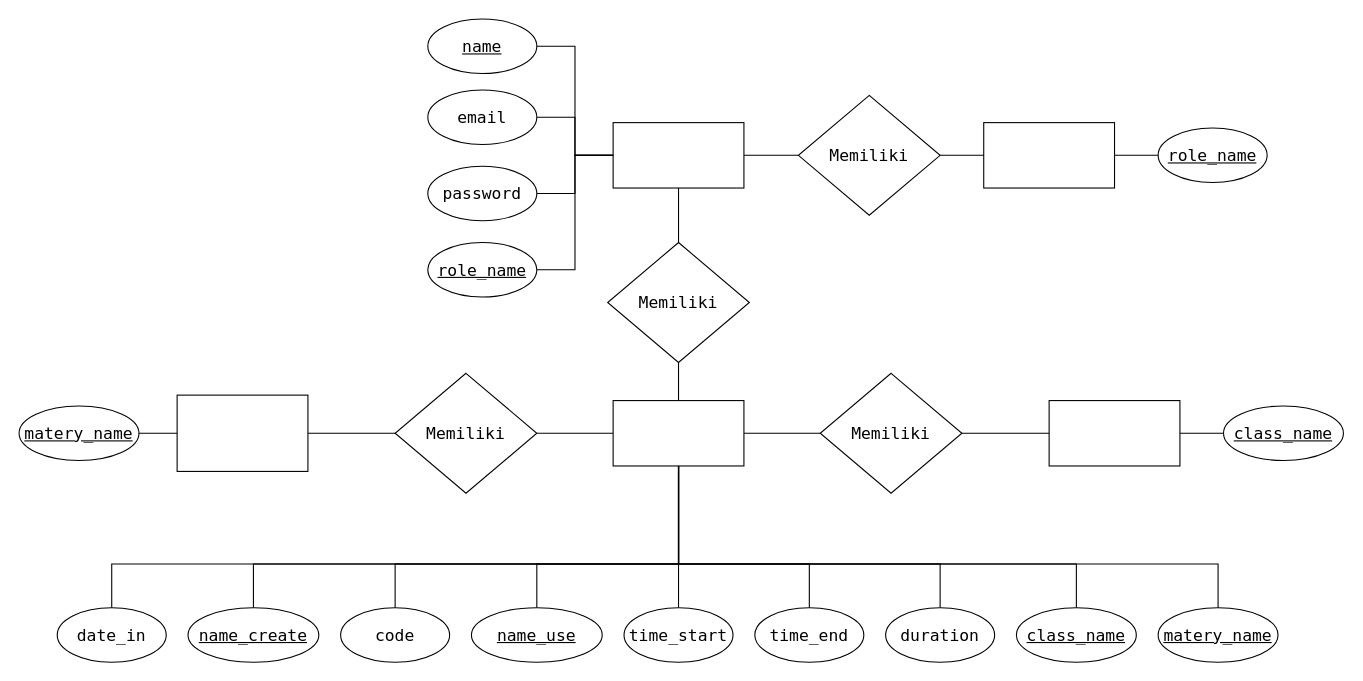
The diagram is 1363 pixels wide and 681 high, and some of its shapes have lost their labels. Here are the shapes that lost their labels. From the top down, the centre of each, then its label:
At (678,155): "tb_user".
At (1049,155): "tb_roles".
At (242,432): "tb_matery".
At (678,432): "tb_schedule".
At (1114,432): "tb_class".
